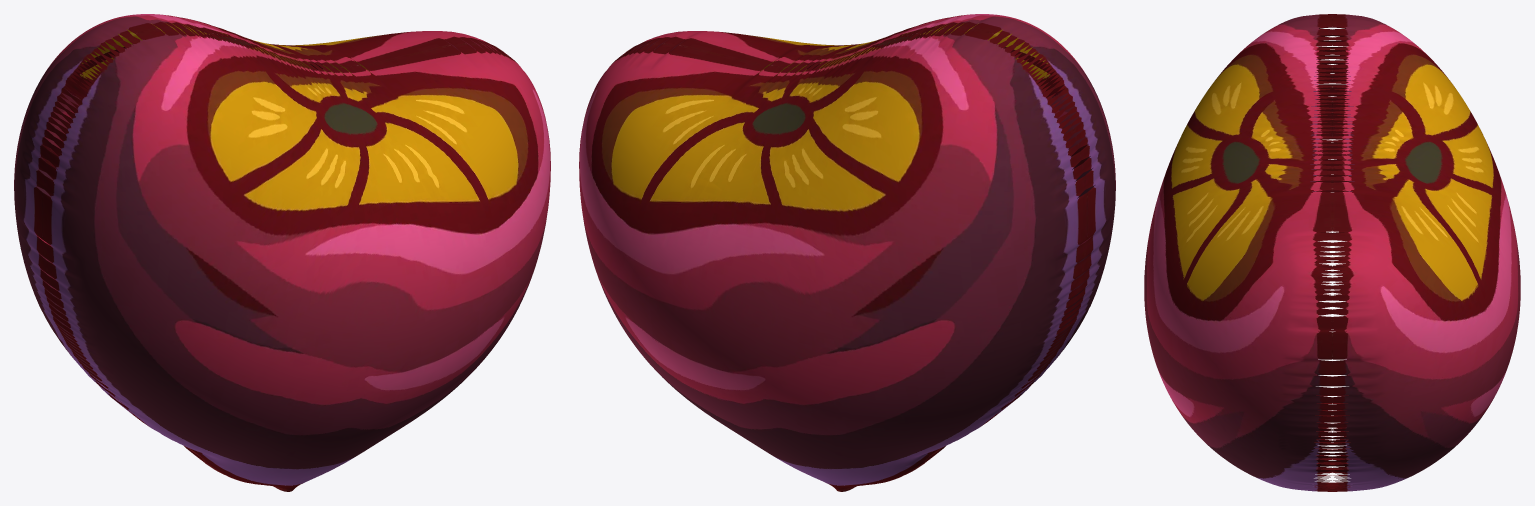
Rendered from cup_bloom.glb.
3 views of the same model, side by side, from view 1: azimuth 30°, elevation 25°; view 2: azimuth 150°, elevation 25°; view 3: azimuth 270°, elevation 25° (orthographic). The views are drawn at different scales.
Visible parts, largest first — view 1: cup_bloom; view 2: cup_bloom; view 3: cup_bloom.
Part boxes in pixels (x1,y1,x2,y2): cup_bloom: (14,14,550,491); cup_bloom: (579,14,1115,491); cup_bloom: (1144,14,1520,491).
Bounding box in the file's own units: 0.9889 × 0.908 × 0.7565.
1 material, 1 textured.
